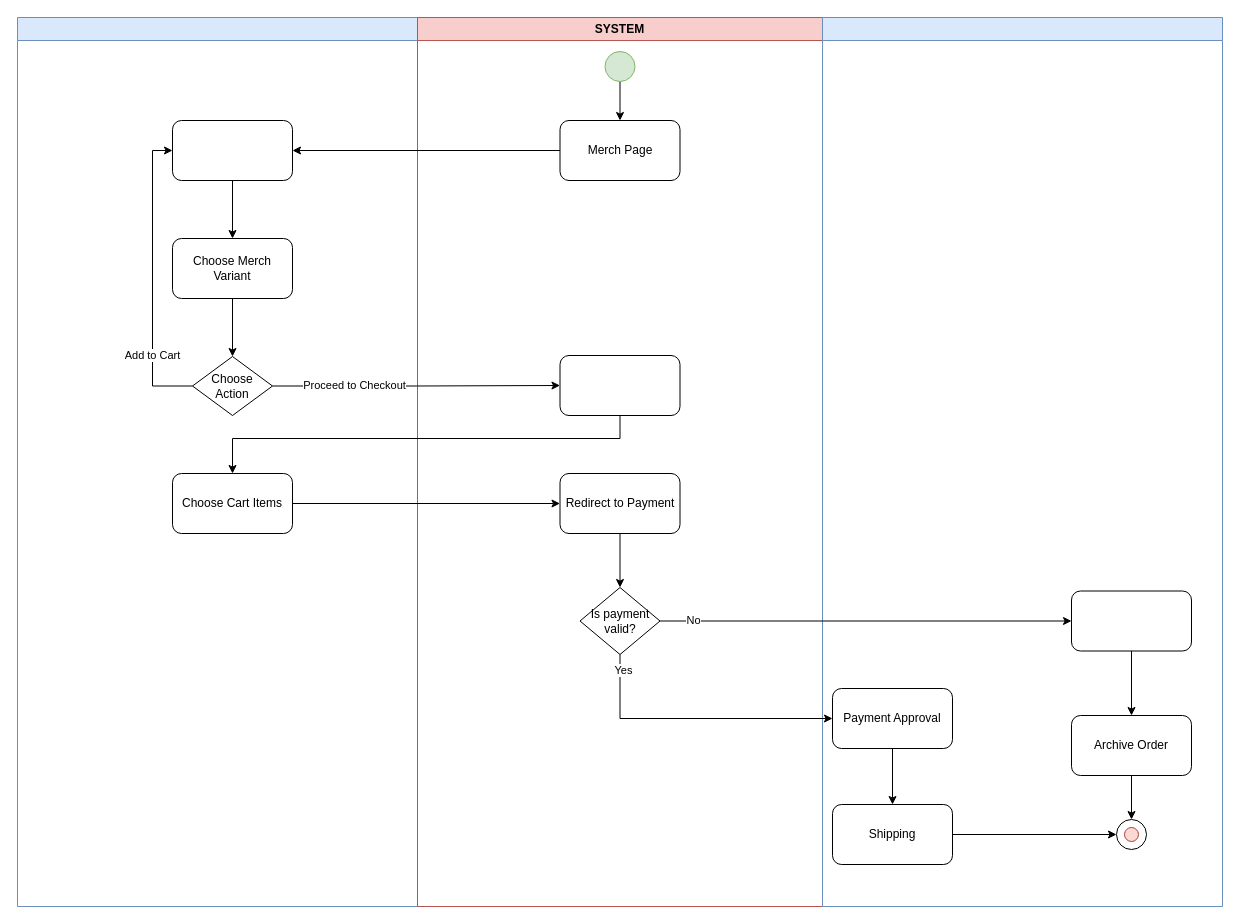
Image size: 1240x924. Some labels were removed from this diagram. The box of each missing label's shape, as (x1, y1, x2, y2) in pixels:
ADMIN/EMPLOYEE: (822, 16, 1222, 906)
Choose Merch: (172, 120, 292, 180)
CUSTOMER: (16, 16, 418, 906)
Inform Customer: (1070, 590, 1192, 651)
Redirect to Cart: (559, 354, 680, 416)
